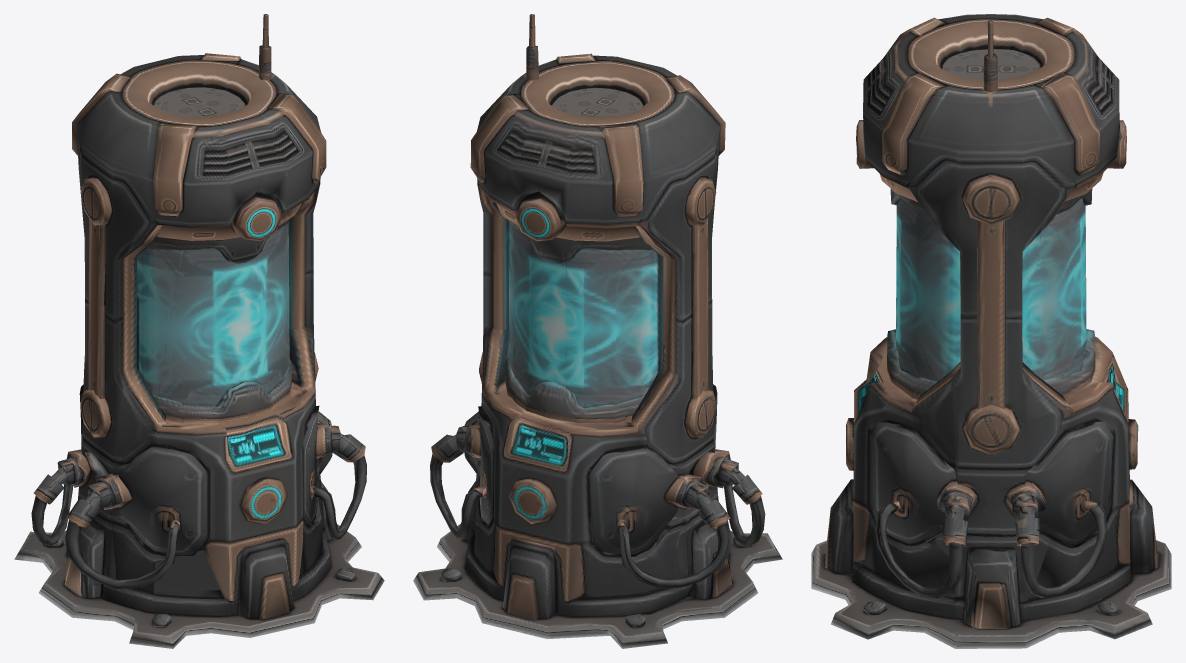
3 views of the same model, side by side, from view 1: azimuth 30°, elevation 25°; view 2: azimuth 150°, elevation 25°; view 3: azimuth 270°, elevation 25° (orthographic). The views are drawn at different scales.
Parts seen in each view (by area): view 1: Mesh_0; view 2: Mesh_0; view 3: Mesh_0.
Part boxes in pixels (left/top/right/bottom): Mesh_0: left=14, top=14, right=384, bottom=648; Mesh_0: left=413, top=14, right=782, bottom=648; Mesh_0: left=811, top=14, right=1171, bottom=648.
Size of the model in its own units: 58.59 by 100 by 55.86.
Materials: 1 (1 with a texture image).
